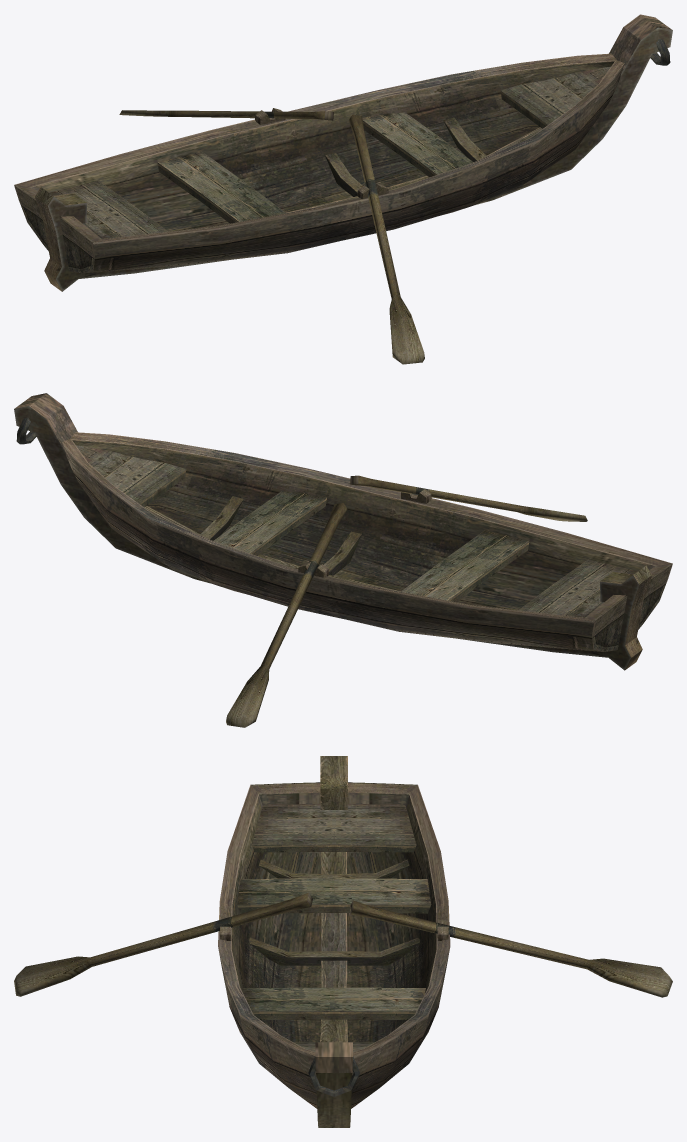
File: things_woodboat_00.glb
3 views of the same model, one above another, from view 1: azimuth 30°, elevation 25°; view 2: azimuth 150°, elevation 25°; view 3: azimuth 270°, elevation 25° (orthographic). The views are drawn at different scales.
Parts seen in each view (by area): view 1: woodboat_b; view 2: woodboat_b; view 3: woodboat_b.
Part boxes in pixels (x1,y1,x2,y2): woodboat_b: (14, 14, 672, 364); woodboat_b: (14, 393, 672, 727); woodboat_b: (14, 756, 672, 1127).
Size of the model in its own units: 13.25 by 2.84 by 11.46.
1 material, 1 textured.
